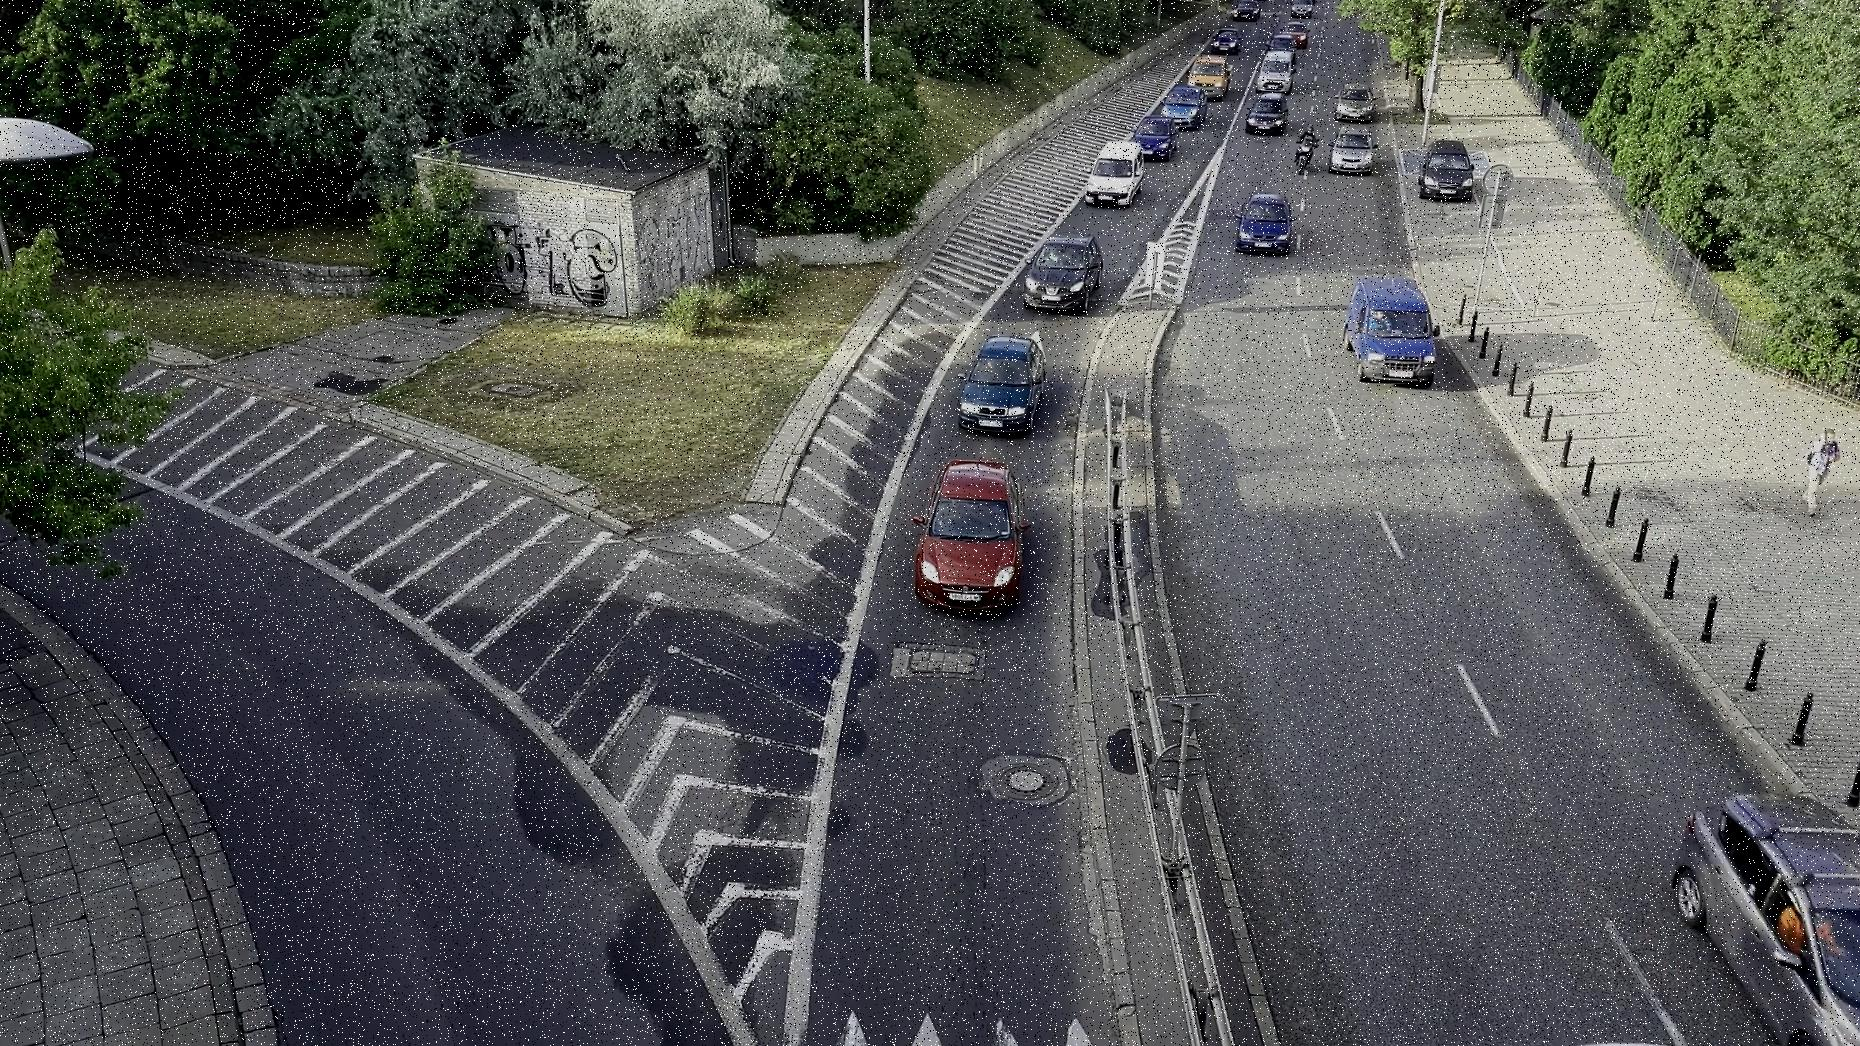bike: (1285, 117, 1322, 179)
car: (1661, 778, 1860, 1046), (910, 457, 1026, 616), (1339, 268, 1438, 388), (947, 336, 1051, 434), (1014, 229, 1113, 327), (1231, 181, 1303, 268), (1076, 133, 1154, 212), (1413, 126, 1482, 207), (1133, 101, 1183, 161), (1326, 124, 1380, 175), (1256, 43, 1309, 92), (1159, 79, 1208, 129), (1334, 75, 1385, 124), (1244, 88, 1294, 134), (1188, 50, 1231, 101)
